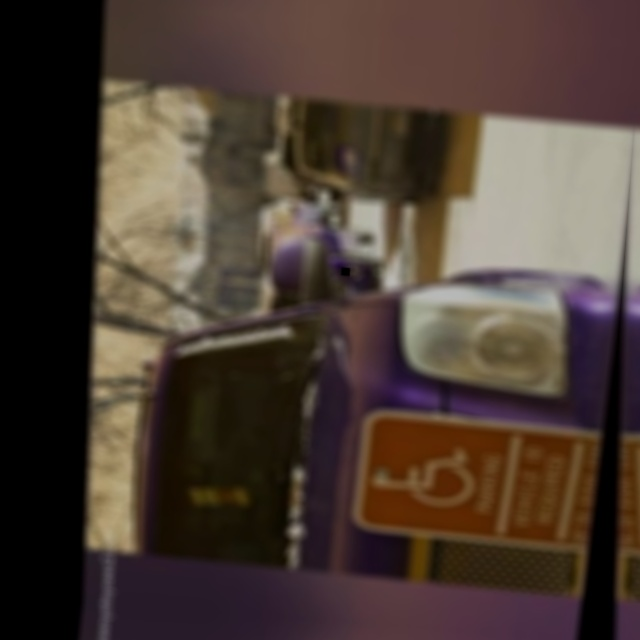ISA: (361, 437, 487, 516)
